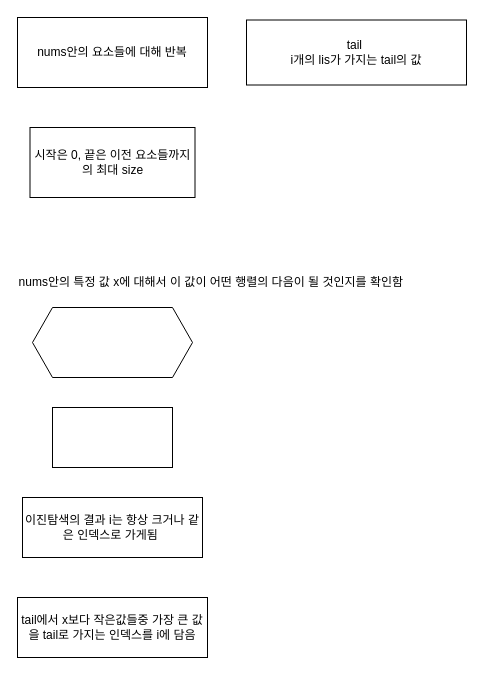
This 484x675 diagram has some shape labels left out. The shapes that lost their labels are listed below. From the top down, each one's centre as x and y in pixels, then its label:
point 112,342: i와 j가 다를동안 반복
point 112,437: 이진탐색
